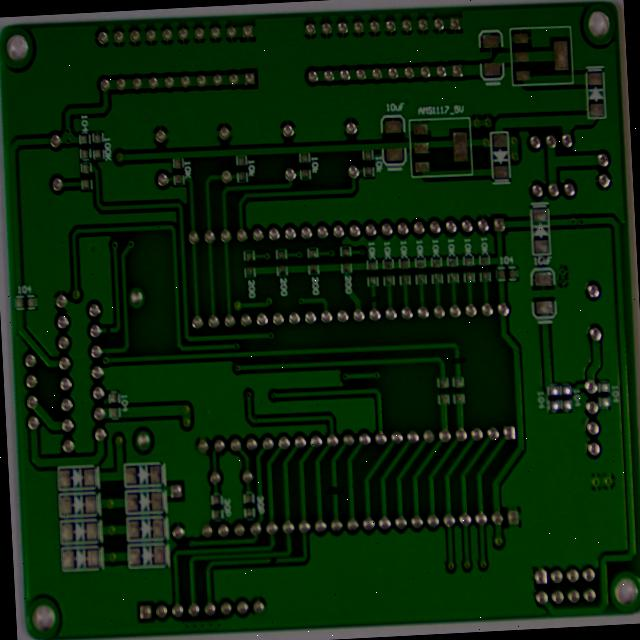open_circuit: (446, 348, 462, 360), (261, 553, 274, 565), (324, 479, 335, 492), (94, 317, 107, 328), (363, 285, 374, 298)
